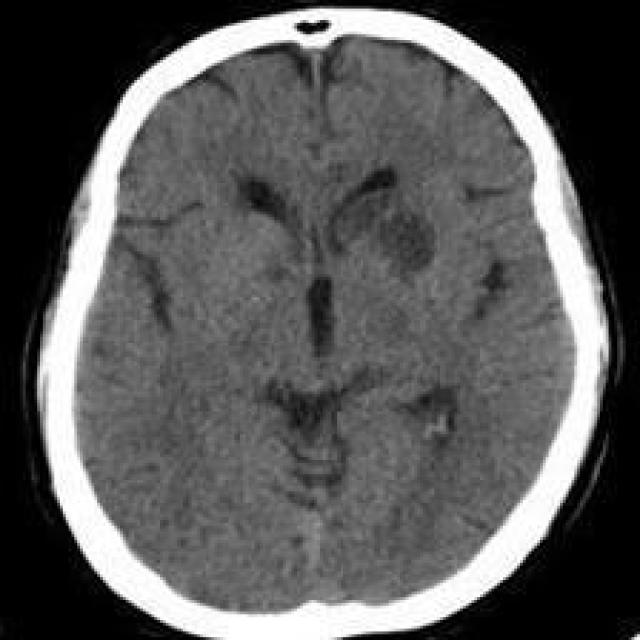no_tumor: (27, 1, 612, 640)
